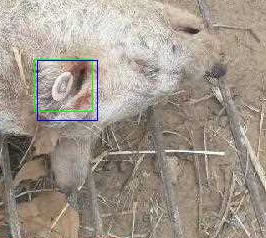text: (34, 59, 92, 111)
